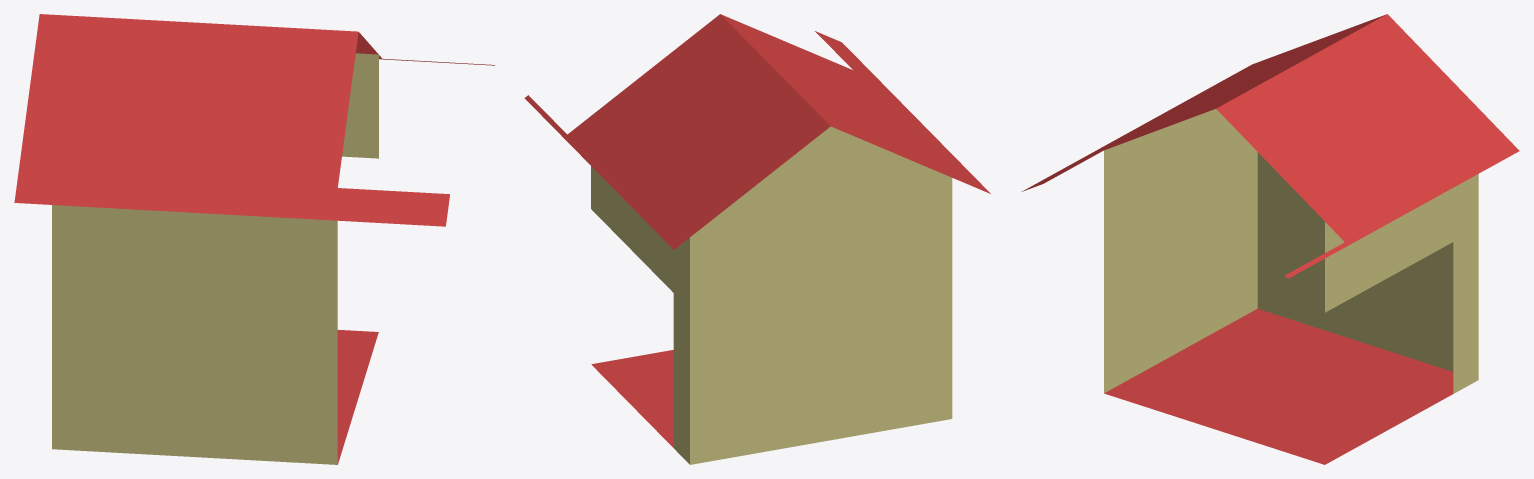
3 views of the same model, side by side, from view 1: azimuth 30°, elevation 25°; view 2: azimuth 150°, elevation 25°; view 3: azimuth 270°, elevation 25° (orthographic). The views are drawn at different scales.
Size of the model in its own units: 17.29 by 17 by 12.06.
